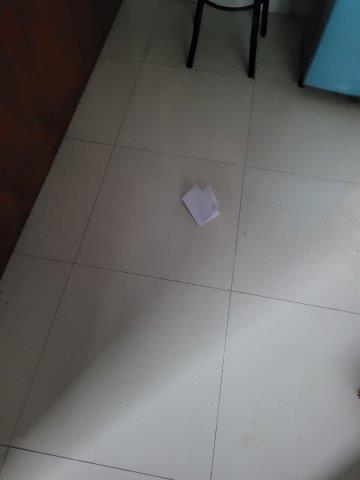kertas: (176, 184, 228, 227)
